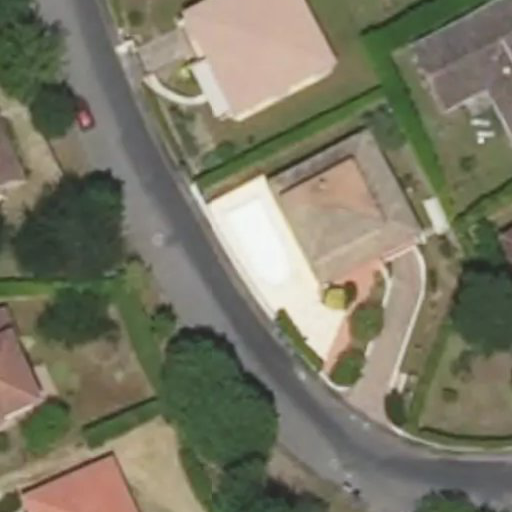pool: (225, 220, 286, 262)
